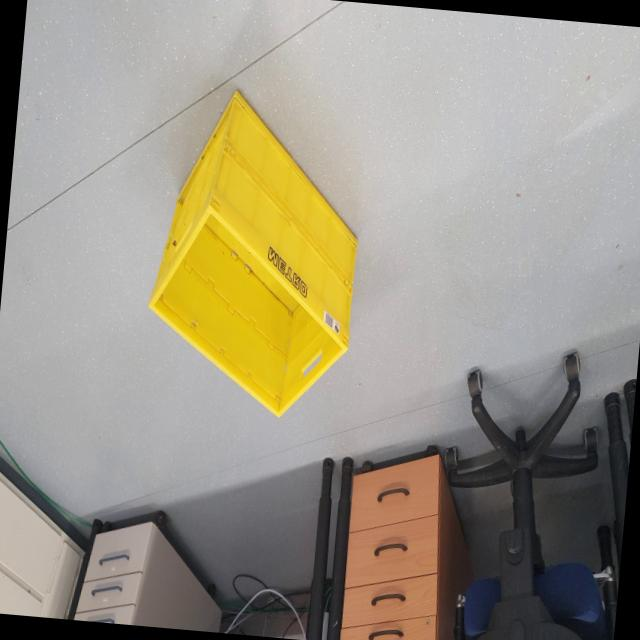box: (134, 58, 392, 438)
